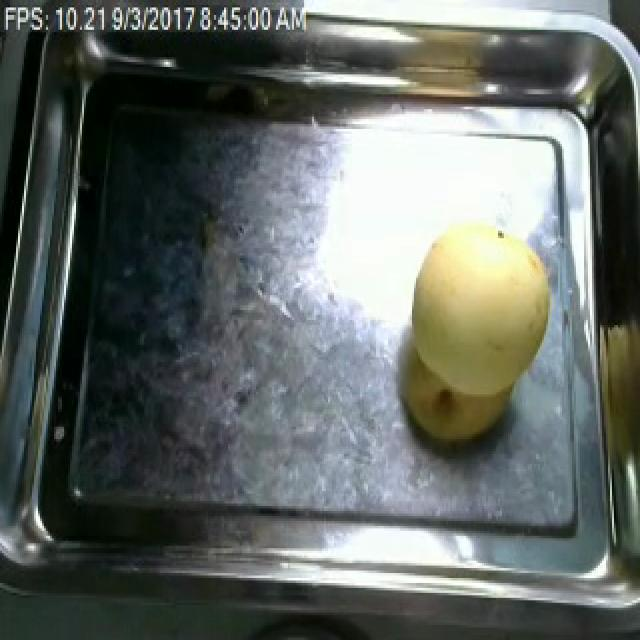Fruit: (406, 208, 562, 407)
